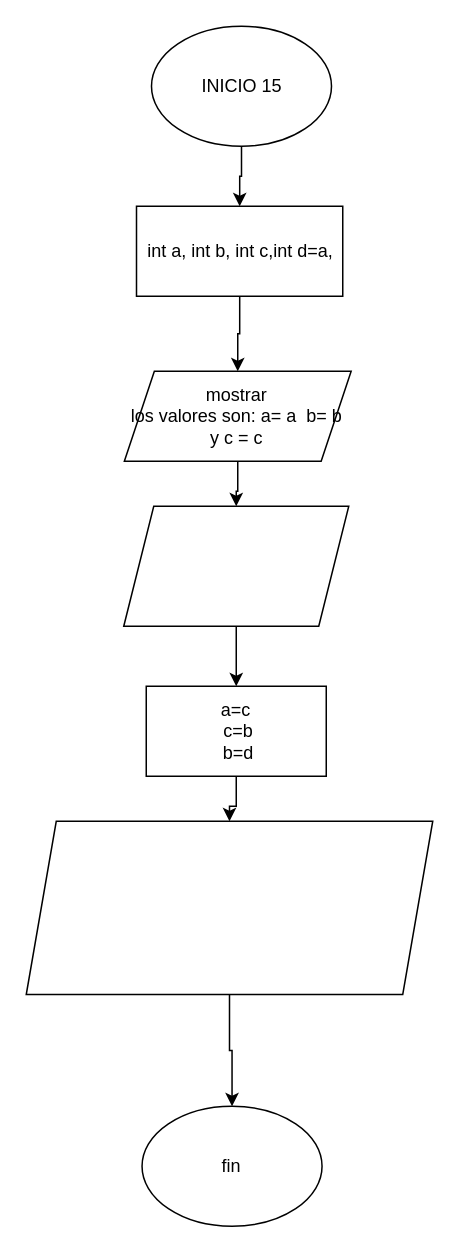
Image size: 459x1253. Some labels were removed from this diagram. Each missing label, with the centre of its shape:
"mostrar Los valores despues de la permutacion son: a = a b= b c=c" belongs at point (229, 907).
"mostrar premutamos : a =>b, b=>c,c=>a" belongs at point (235, 565).
